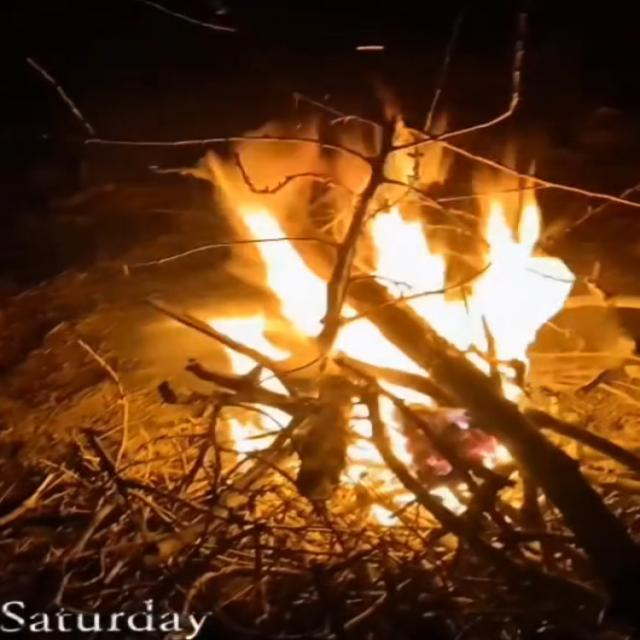fire: (206, 313, 468, 527), (457, 175, 575, 384), (242, 204, 327, 339), (370, 204, 443, 301)
